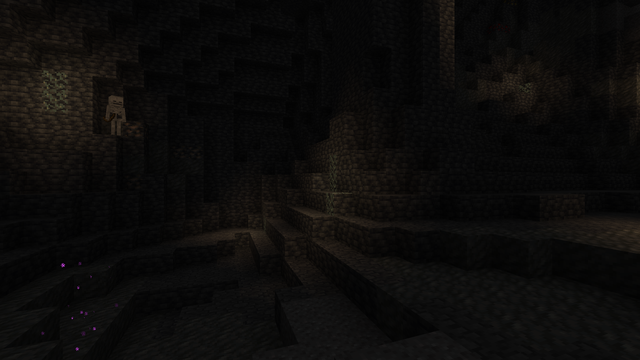squelettes: (106, 95, 124, 136)
